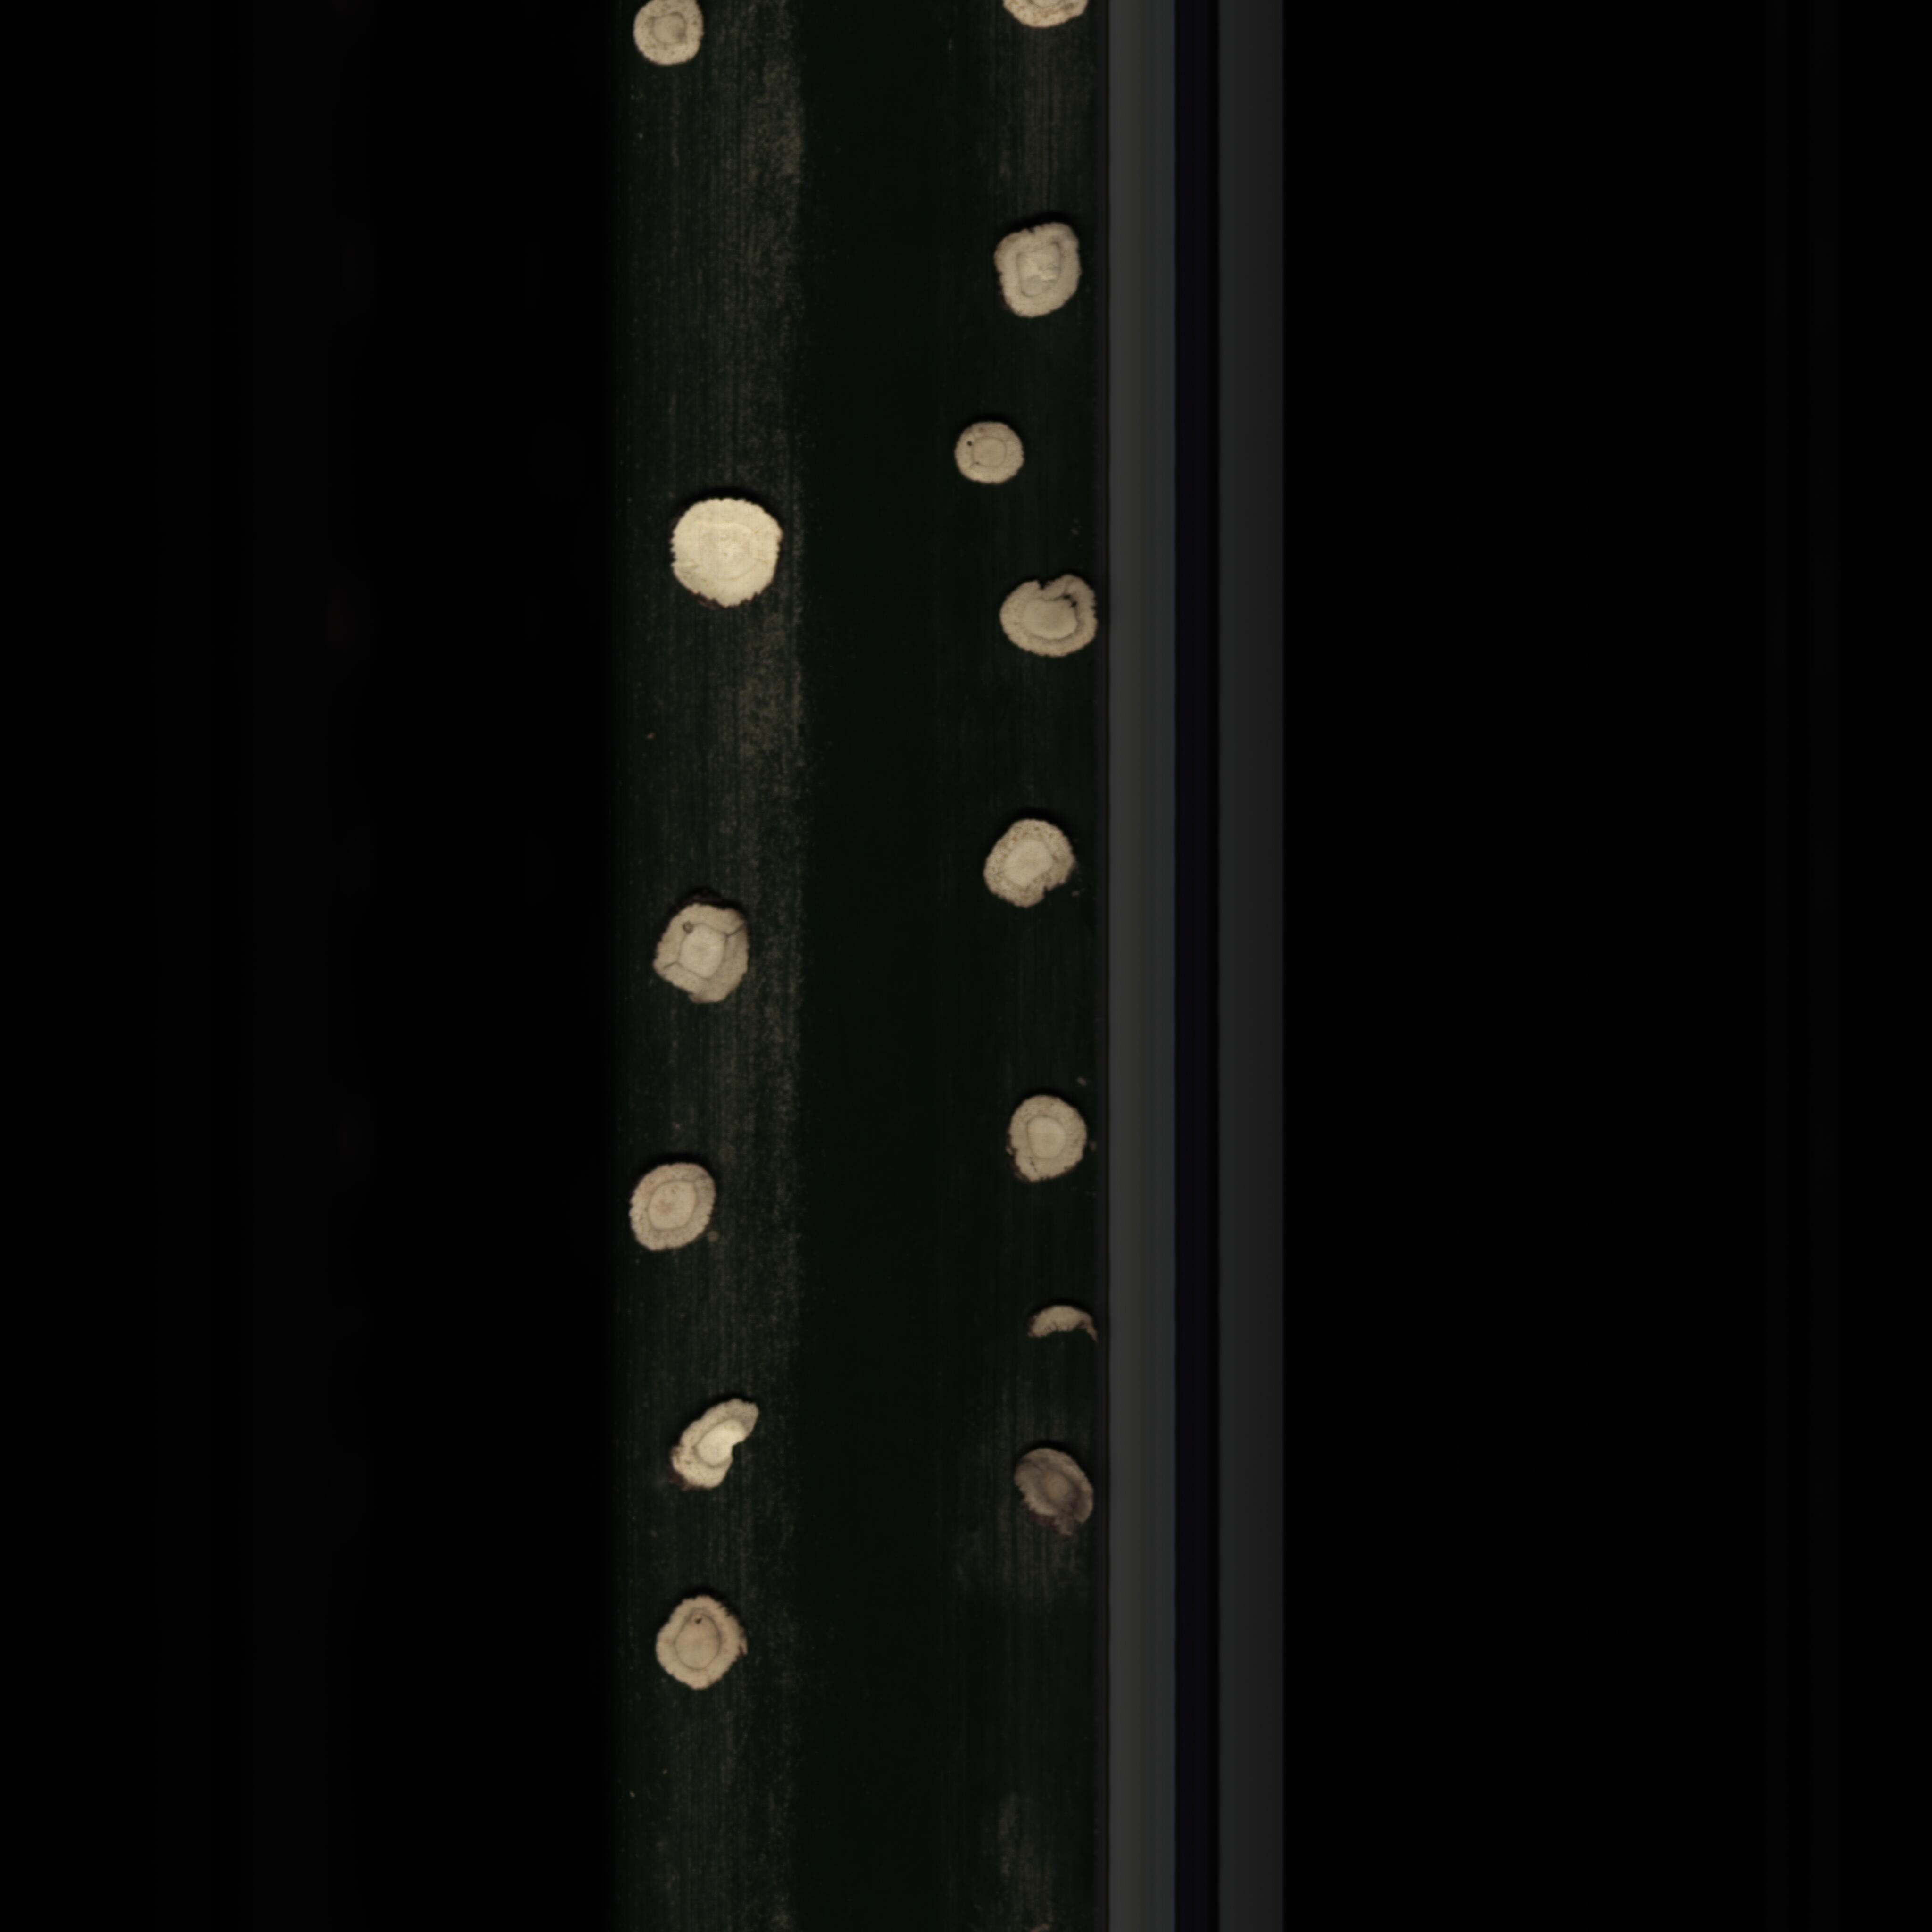debris: (649, 1387, 782, 1504), (993, 570, 1099, 671), (1021, 1299, 1104, 1352)
moldy: (980, 211, 1090, 326), (1007, 1445, 1102, 1543)
